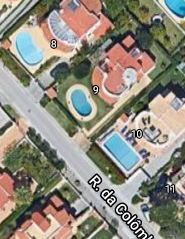pool: (16, 32, 43, 66), (109, 137, 136, 169), (70, 92, 96, 116), (163, 1, 184, 17)
